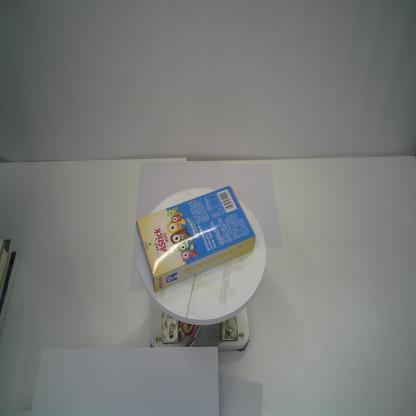Dessert: (134, 184, 257, 296)
